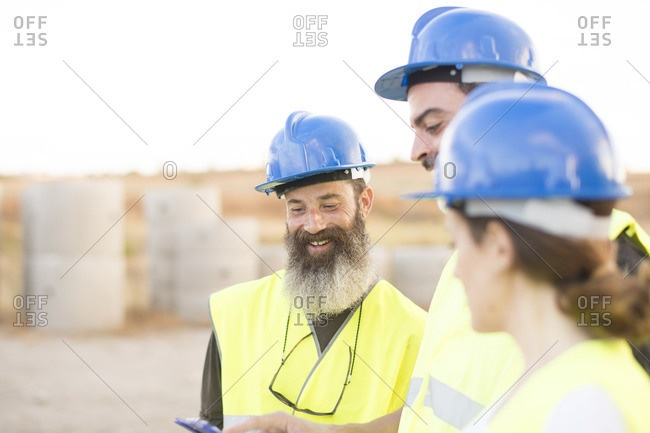helmet: (422, 90, 631, 205), (385, 10, 546, 86), (254, 116, 384, 185)
person with full safety: (202, 111, 426, 433), (446, 103, 647, 433), (378, 11, 508, 432)
safety vest: (208, 269, 420, 432), (423, 250, 511, 433), (500, 342, 644, 433)
